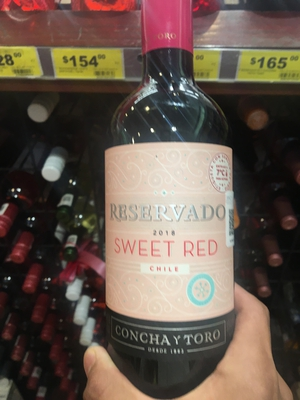reservado sweet red: (104, 10, 255, 400)
